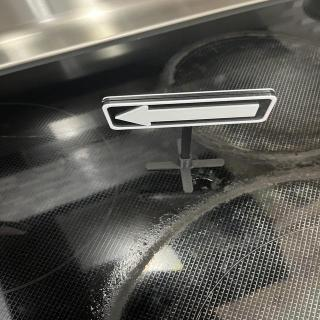sign_oneway_left: (102, 94, 280, 133)
